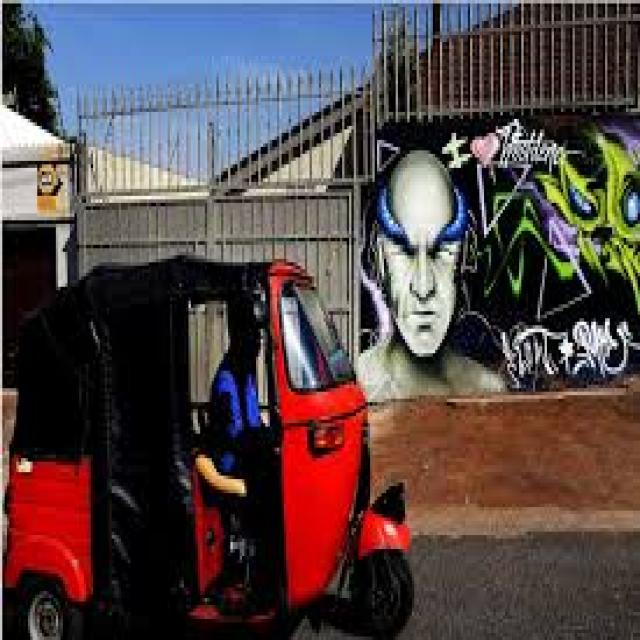person: (195, 294, 275, 602)
three wheeler: (5, 259, 412, 640)
